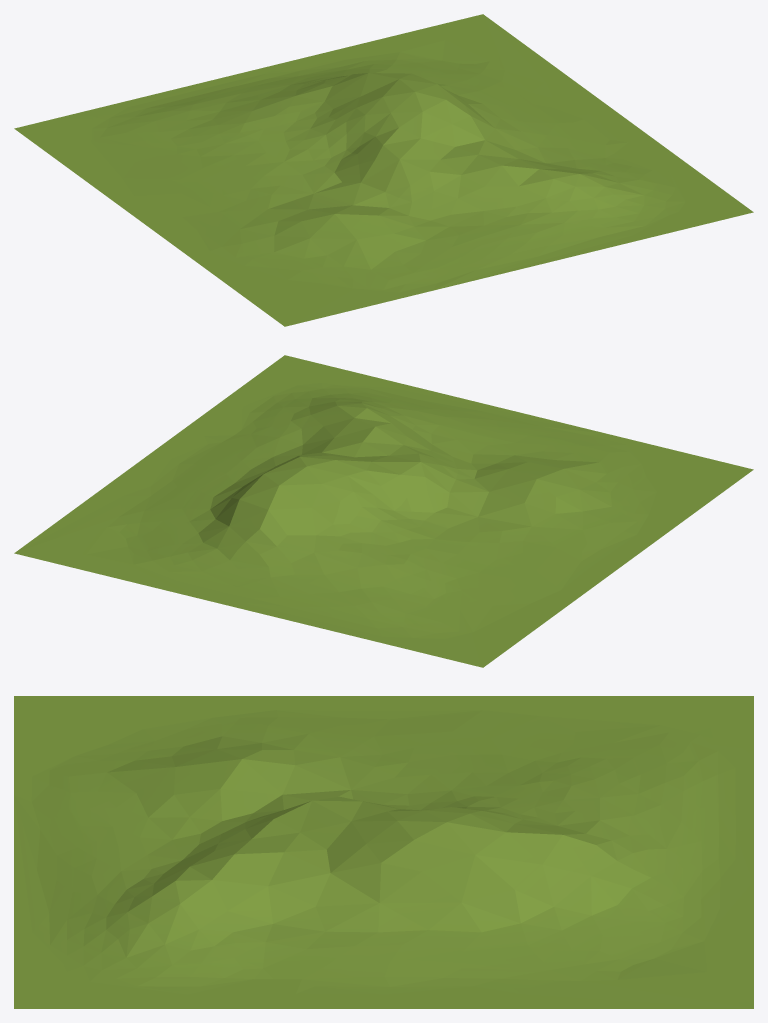
File: Mesh_Landscape_Terrain_09.FBX
3 views of the same model, one above another, from view 1: azimuth 30°, elevation 25°; view 2: azimuth 150°, elevation 25°; view 3: azimuth 270°, elevation 25° (orthographic). The views are drawn at different scales.
Parts seen in each view (by area): view 1: Mesh_Landscape_Terrain_09; view 2: Mesh_Landscape_Terrain_09; view 3: Mesh_Landscape_Terrain_09.
Part boxes in pixels (x1,y1,x2,y2): Mesh_Landscape_Terrain_09: (14,14,753,326); Mesh_Landscape_Terrain_09: (14,355,753,667); Mesh_Landscape_Terrain_09: (14,696,753,1008).
Bounding box in the file's own units: 12800 × 12800 × 1292.
